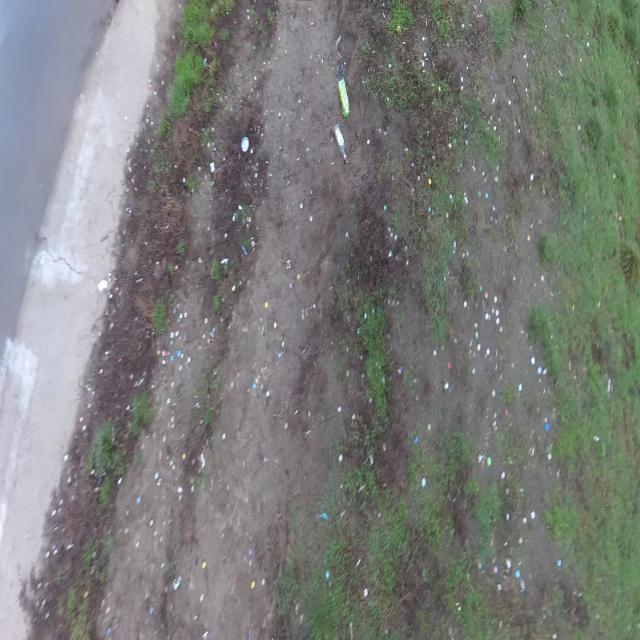rubbish: (333, 119, 348, 167), (337, 75, 351, 114), (241, 135, 249, 151)
